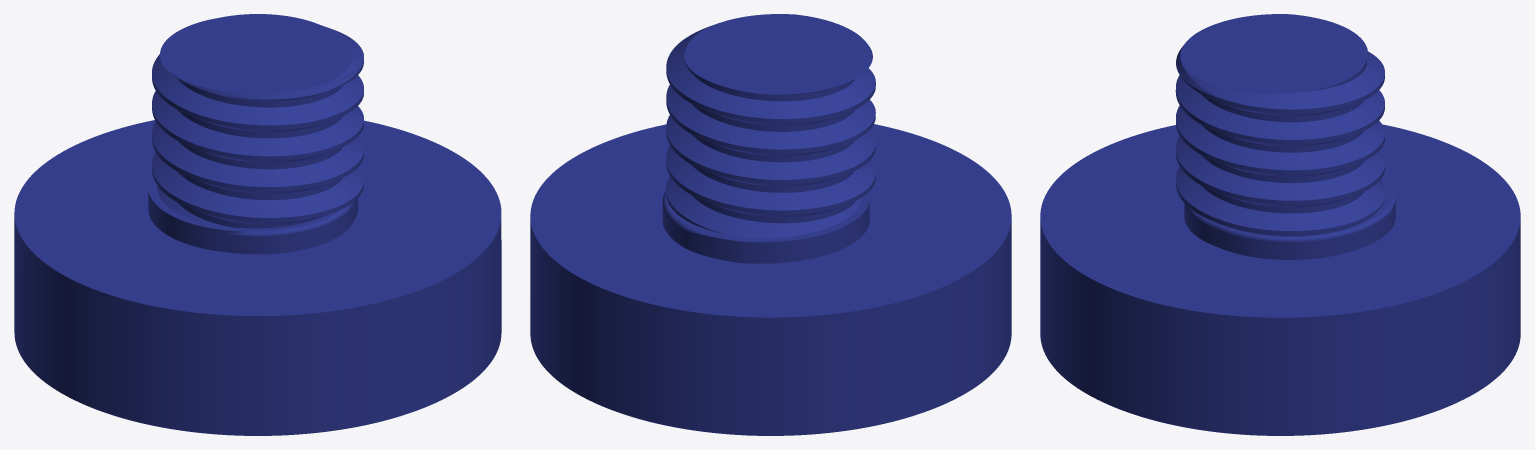
File: ShakerV3 v60_ShakerV3 v60_BottomCap_1_3.1_BottomCap.obj
The picture shows the model from 3 angles, left to right: view 1: azimuth 30°, elevation 25°; view 2: azimuth 150°, elevation 25°; view 3: azimuth 270°, elevation 25°; orthographic projection.
Visible parts, largest first — view 1: 3.1; view 2: 3.1; view 3: 3.1.
Boxes of the visible parts, <box> form: 3.1: <box>14,14,501,435</box>; 3.1: <box>530,14,1011,435</box>; 3.1: <box>1040,14,1520,435</box>.
Bounding box in the file's own units: 21.26 × 13.76 × 21.26.
